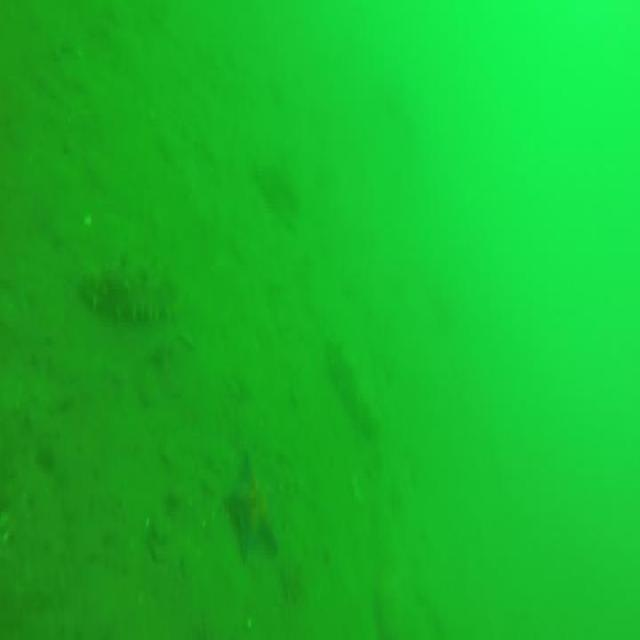holothurian: (82, 251, 178, 326)
starfish: (226, 454, 280, 556)
